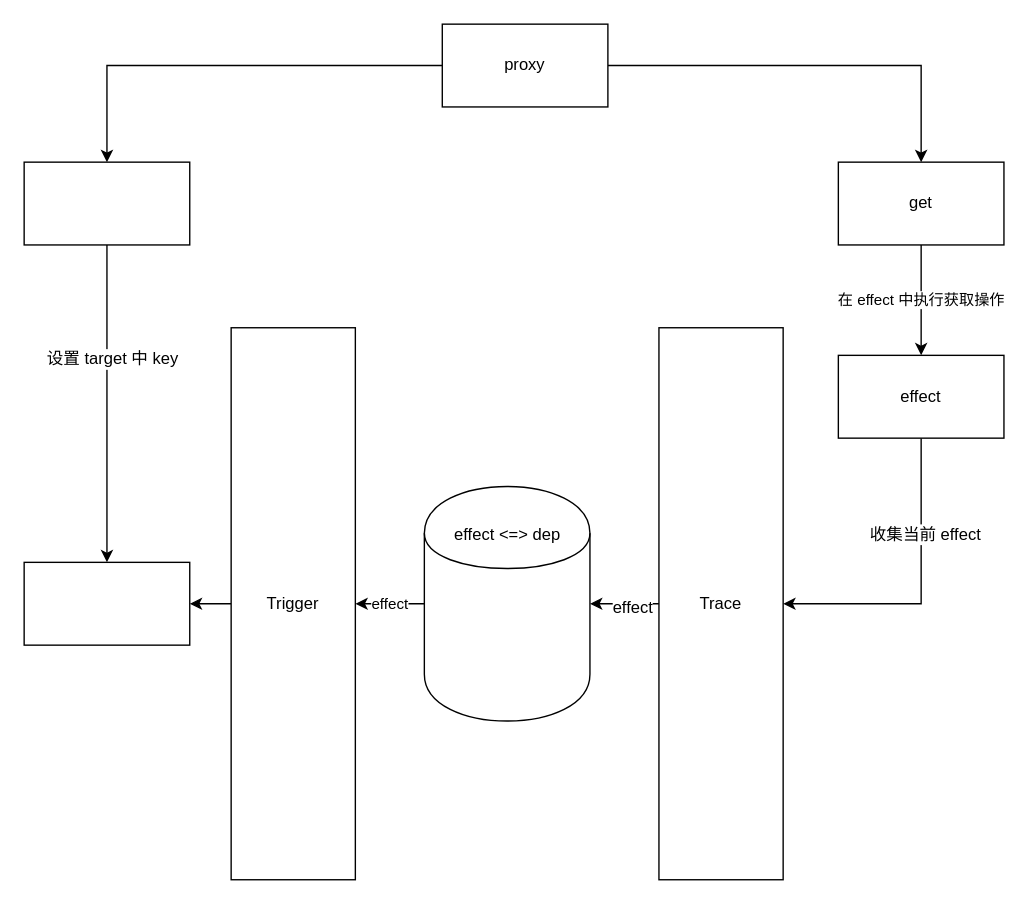
Some shapes in this 1028 by 904 pixel diagram are drawn without their labels. The shapes that lost their labels are listed below. From the top down, each one's box as (x1, y1, x2, y2) in pixels, then its label:
(23, 161, 190, 245): set
(23, 561, 190, 645): trigger - effect （触发副作用函数）
(423, 485, 590, 721): dep = new Set()
